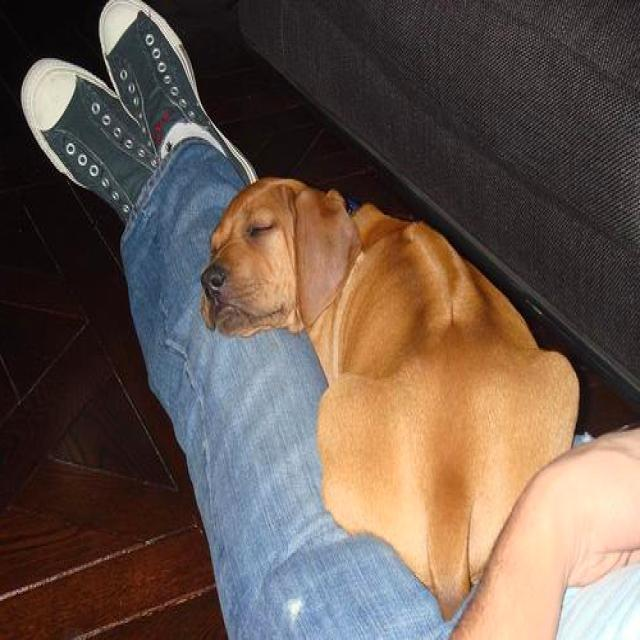rhodesian_ridgeback: (199, 176, 581, 634)
